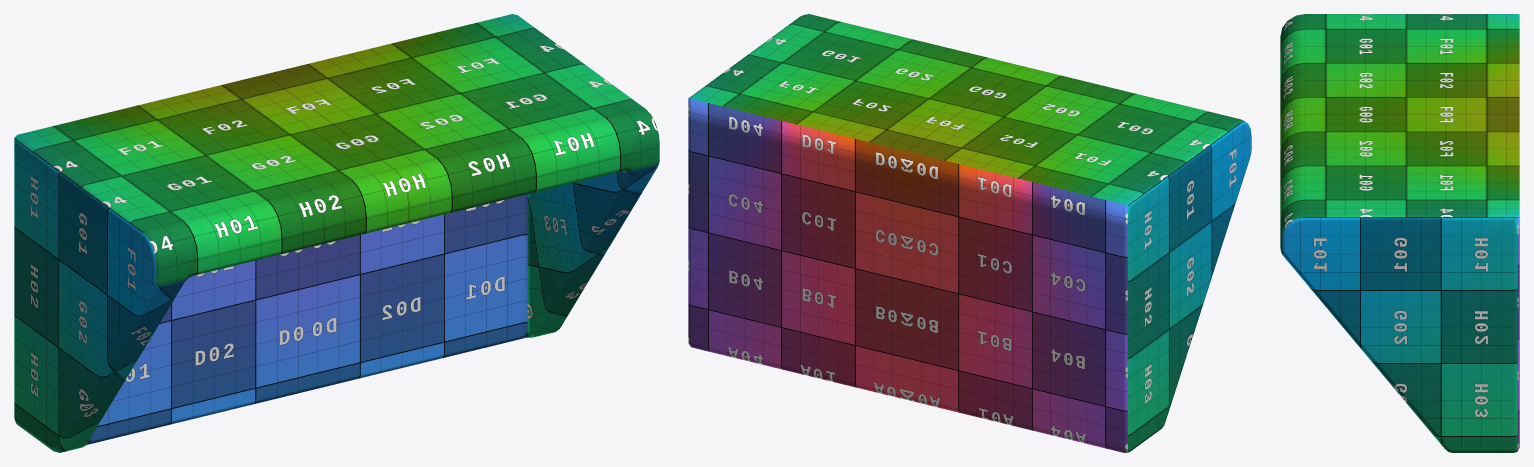
File: Table_low.fbx
3 renders of one model, left to right at view 1: azimuth 30°, elevation 25°; view 2: azimuth 150°, elevation 25°; view 3: azimuth 270°, elevation 25°, orthographic. The views are drawn at different scales.
Visible parts, largest first — view 1: Table_low; view 2: Table_low; view 3: Table_low.
Part boxes in pixels (<box>): Table_low: <box>14,14,659,452</box>; Table_low: <box>688,14,1251,452</box>; Table_low: <box>1280,14,1519,452</box>.
Size of the model in its own units: 203 by 110 by 100.
